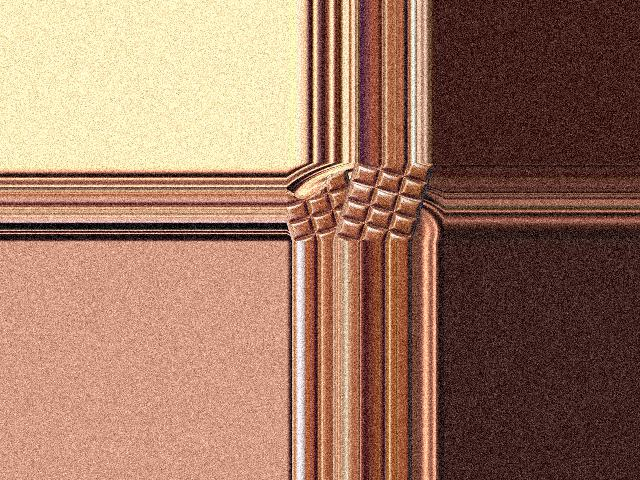chocolate: (332, 164, 435, 242)
